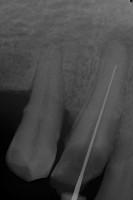Furcation Involvement: (99, 22, 133, 63)
